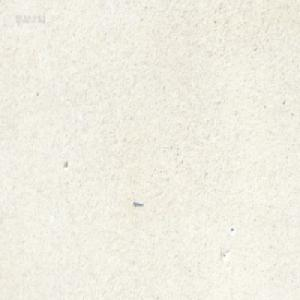Nail: (132, 199, 143, 207)
